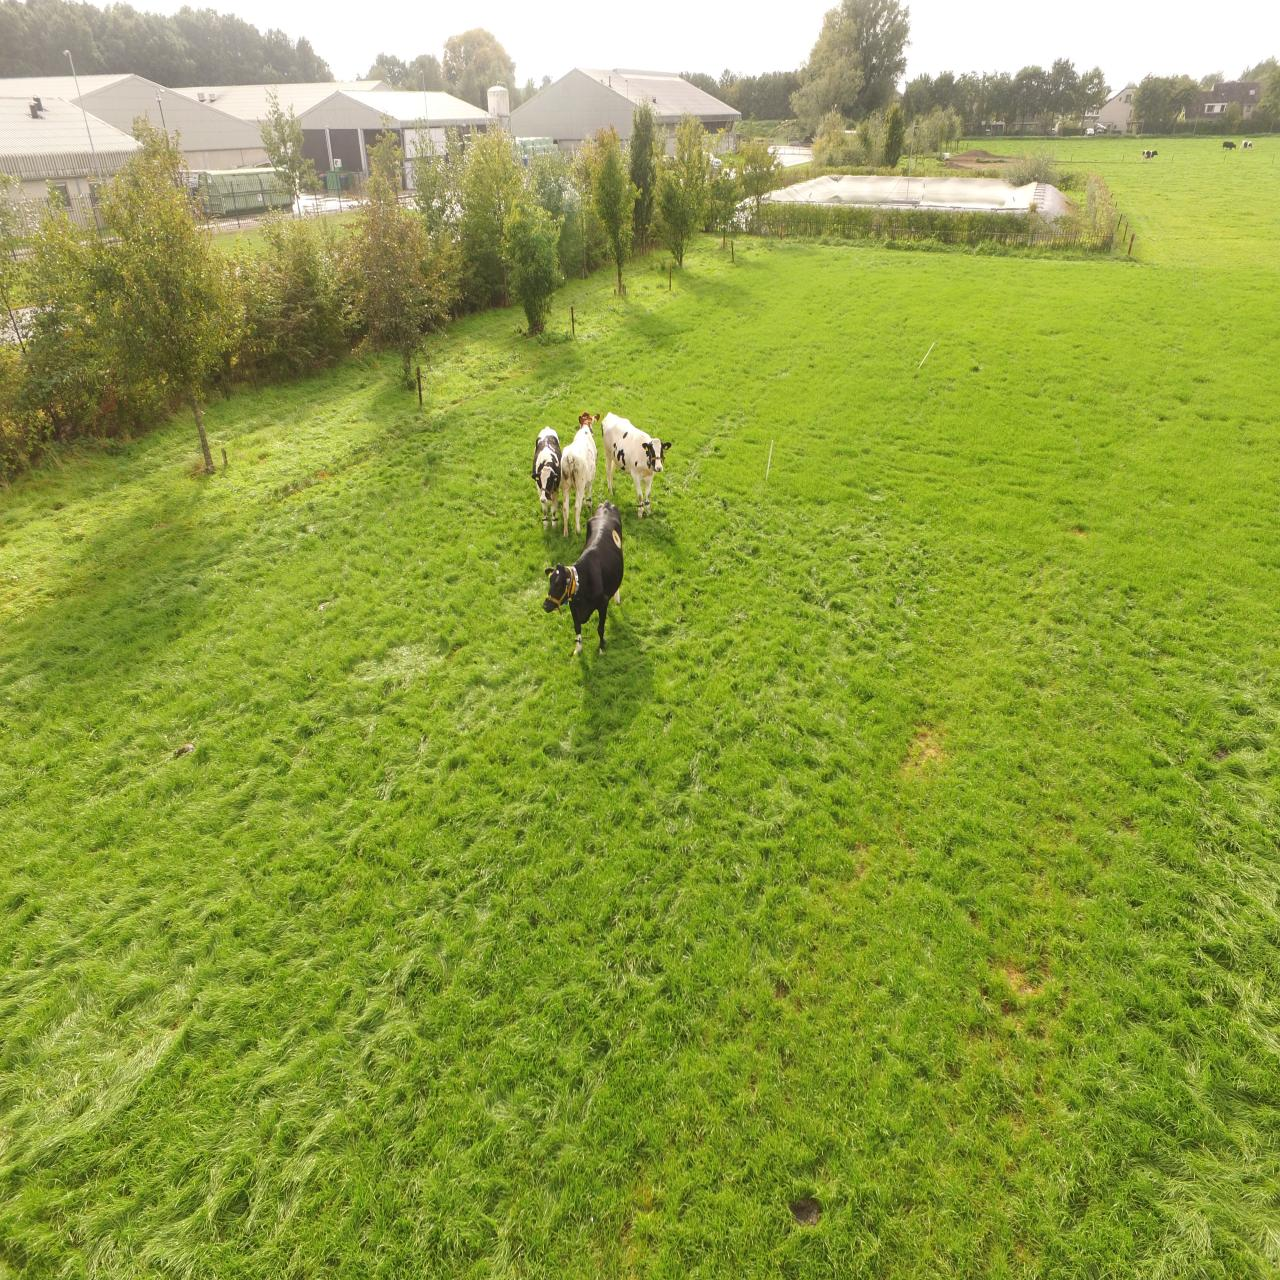cow: (542, 499, 624, 658), (601, 406, 672, 519), (560, 411, 600, 537), (535, 427, 561, 533)
